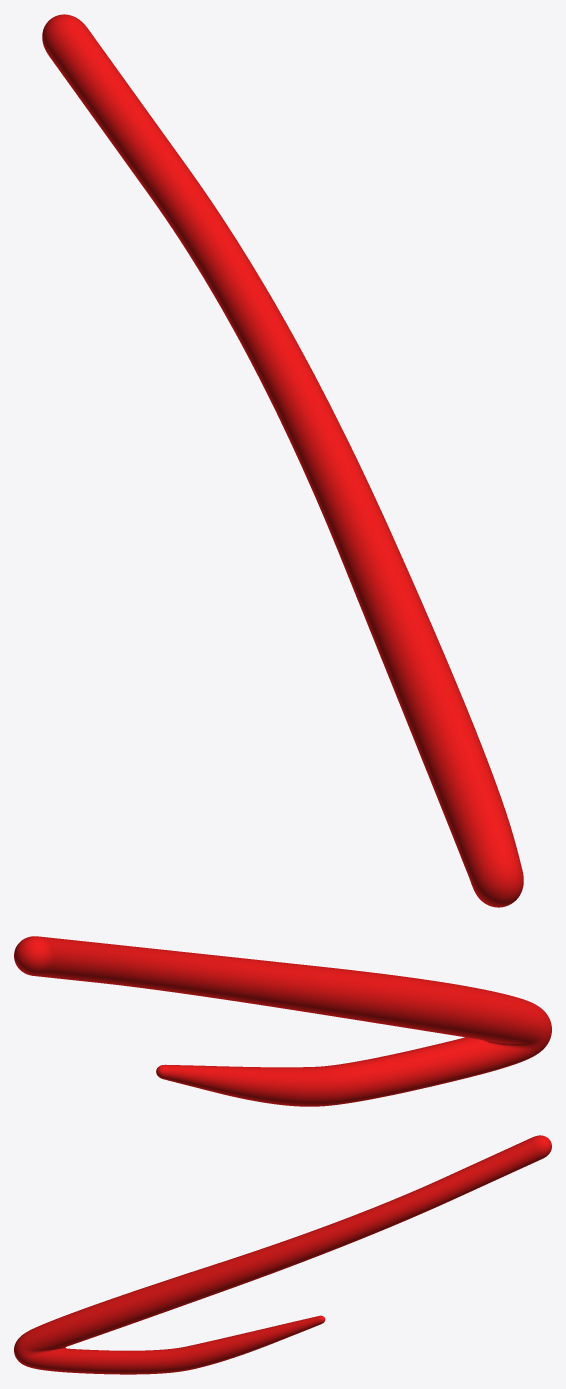
File: wrinkle3.obj
The picture shows the model from 3 angles, top to bottom: view 1: azimuth 30°, elevation 25°; view 2: azimuth 150°, elevation 25°; view 3: azimuth 270°, elevation 25°; orthographic projection. The views are drawn at different scales.
Parts seen in each view (by area): view 1: model_7; view 2: model_7; view 3: model_7.
Boxes of the visible parts, x1,y1,x2,y2 form: model_7: [42, 14, 523, 907]; model_7: [14, 936, 551, 1106]; model_7: [14, 1135, 551, 1374].
Bounding box in the file's own units: 41.47 × 113 × 221.
1 material, 1 textured.
